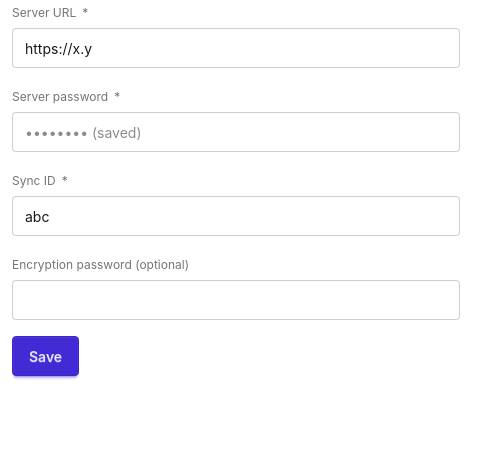
ActualSettingsPage › pre-fills and keeps existing passwords when untouched
The width and height of the screenshot is (477, 453).
Check: the field labelled "Server URL" holds "https://x.y", box [12,28,460,68]
Check: the password field labelled "Server password" is empty, box [12,112,460,152]
Click the button "Save": (46, 356) [12,336,79,376]
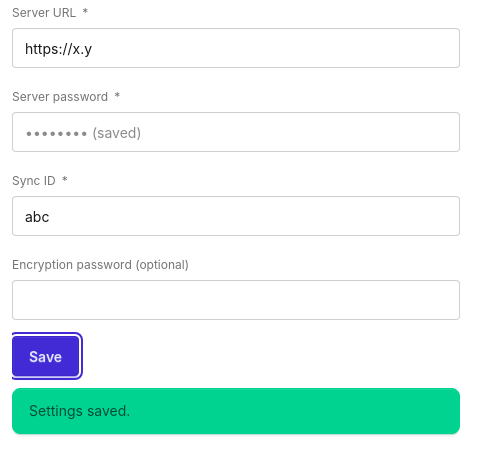
Check: the text "Settings saved." is shown, box [12,388,460,434]
